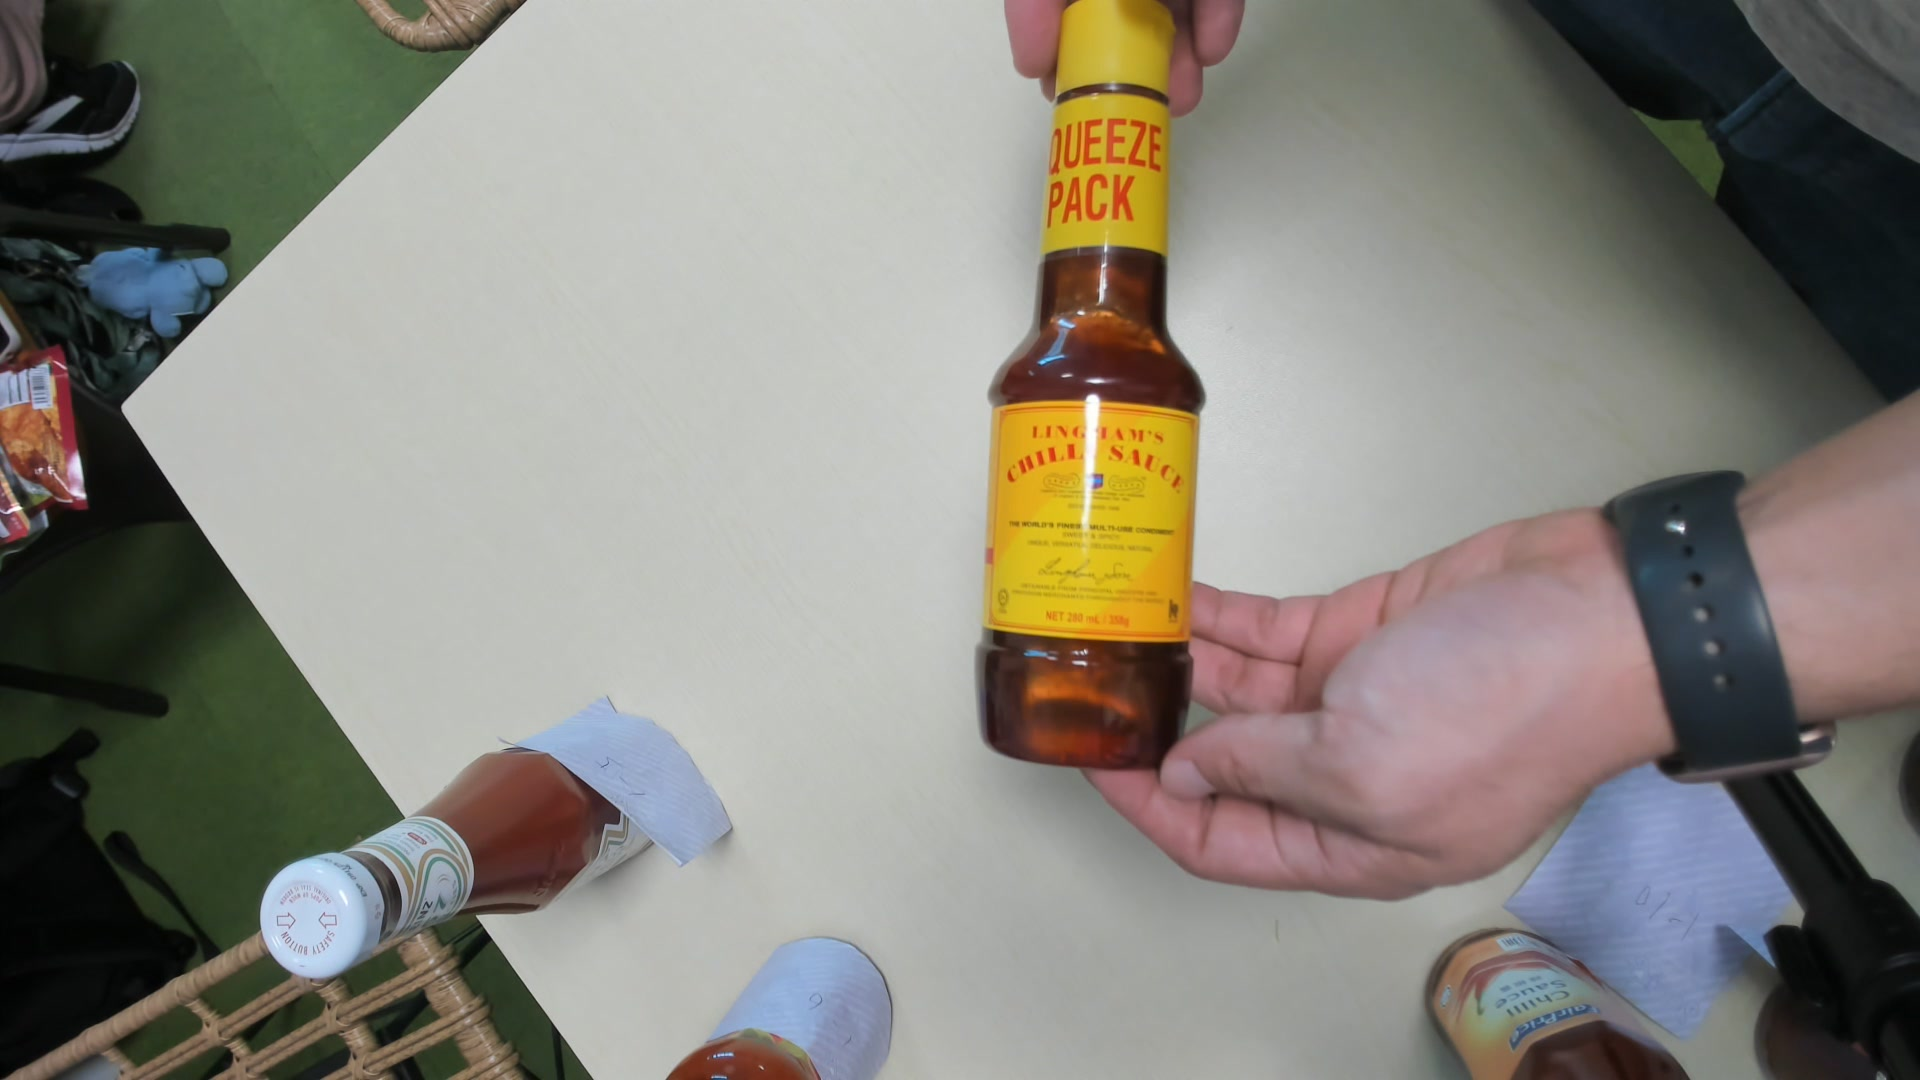KetchupChillSauce_300-399g_Halal_NonHealthy: (975, 5, 1204, 771)
